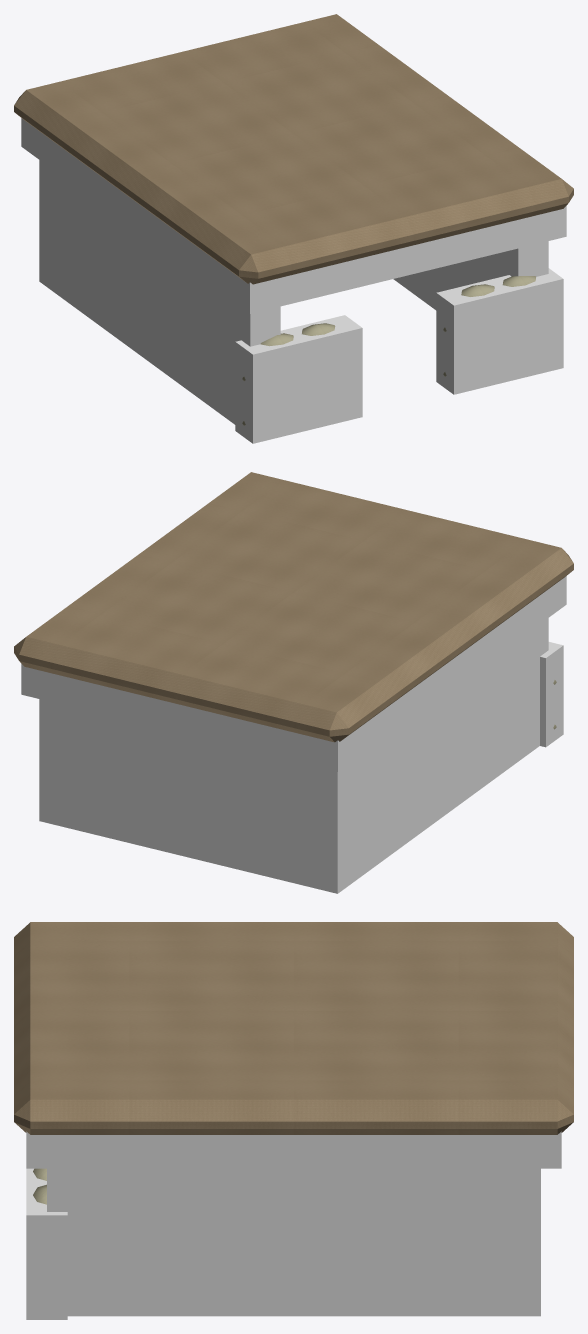
File: TrenchDugout.fbx
3 renders of one model, top to bottom at view 1: azimuth 30°, elevation 25°; view 2: azimuth 150°, elevation 25°; view 3: azimuth 270°, elevation 25°, orthographic. The views are drawn at different scales.
Parts seen in each view (by area): view 1: LOD0, COL_Static; view 2: LOD0, COL_Static; view 3: LOD0, COL_Static.
Part boxes in pixels (<box>): LOD0: <box>14,14,573,425</box>; COL_Static: <box>21,118,566,443</box>; LOD0: <box>14,472,573,742</box>; COL_Static: <box>21,576,566,893</box>; LOD0: <box>14,922,573,1204</box>; COL_Static: <box>26,1131,561,1319</box>.
Size of what is drawn, in the model's own units: 550 by 295 by 680.
